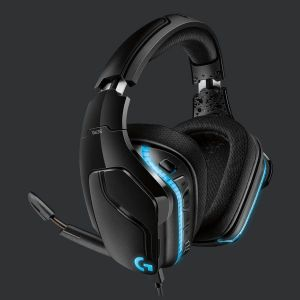headset: (26, 7, 275, 291)
